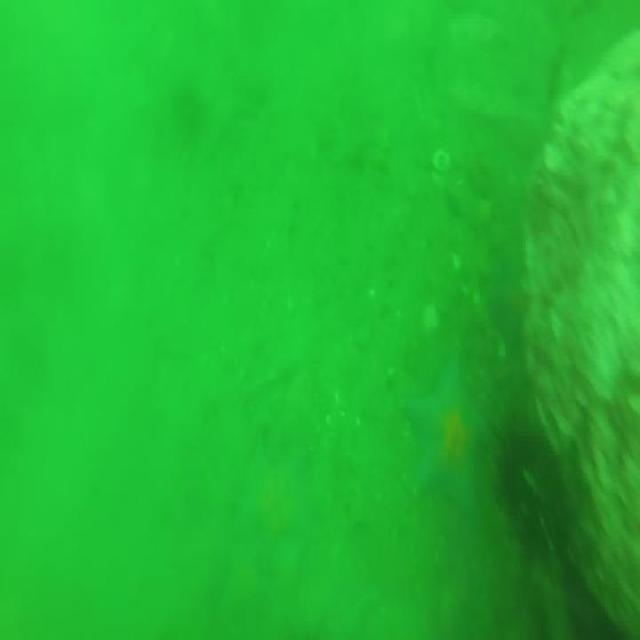echinus: (485, 416, 575, 596)
scallop: (433, 149, 452, 172)
starfish: (401, 371, 488, 509)
